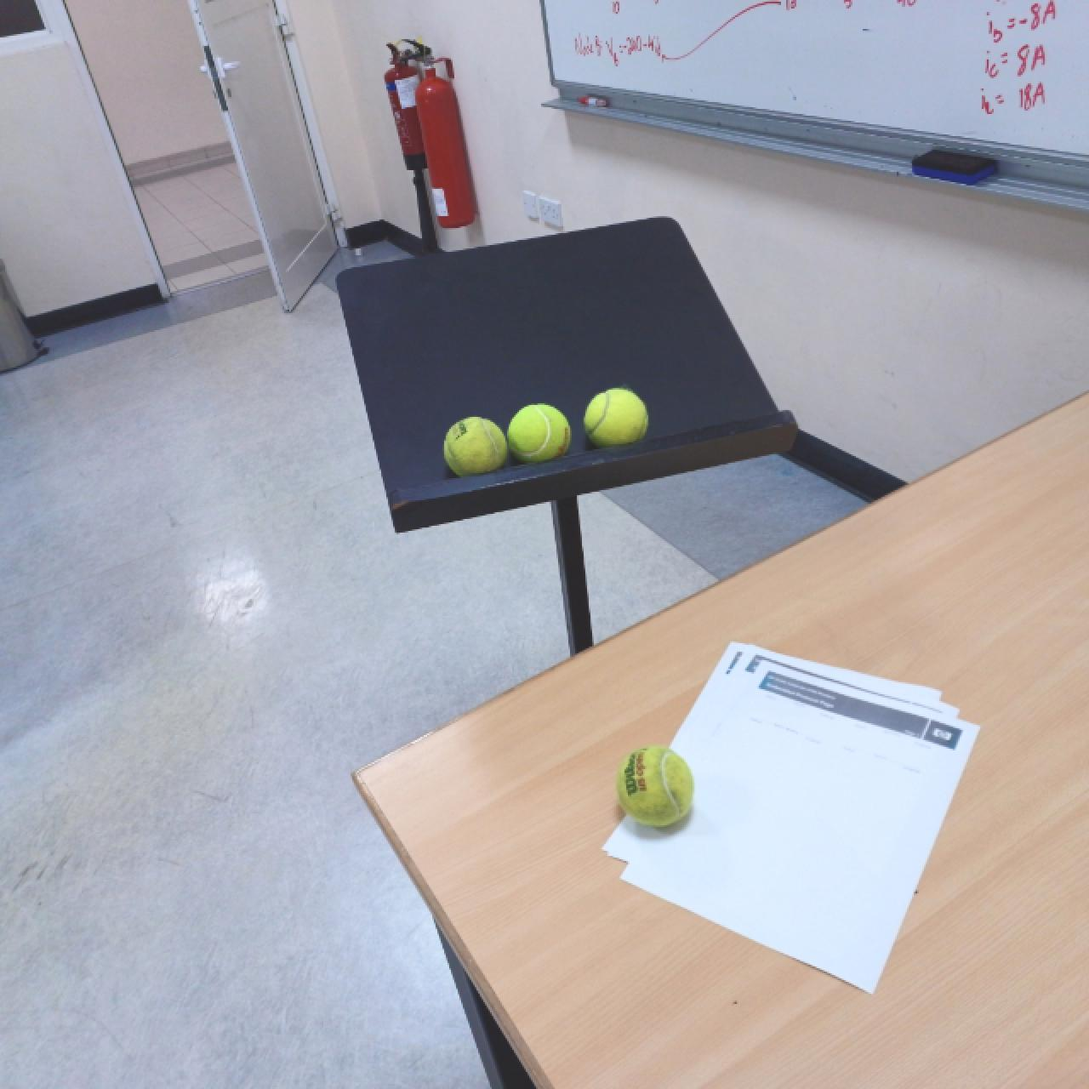tennis-ball: (614, 743, 695, 828), (441, 414, 510, 479), (583, 388, 652, 448), (506, 404, 574, 464)
